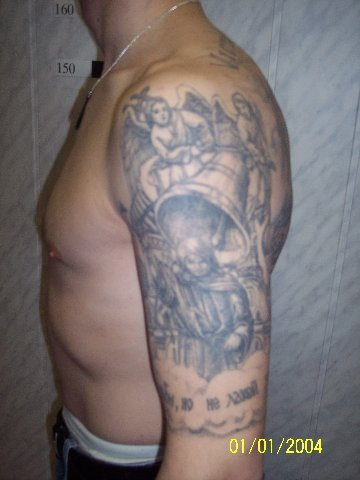tatu1_angel: (113, 87, 211, 183), (223, 91, 280, 211)
tatu3_bukva: (157, 378, 265, 414)
